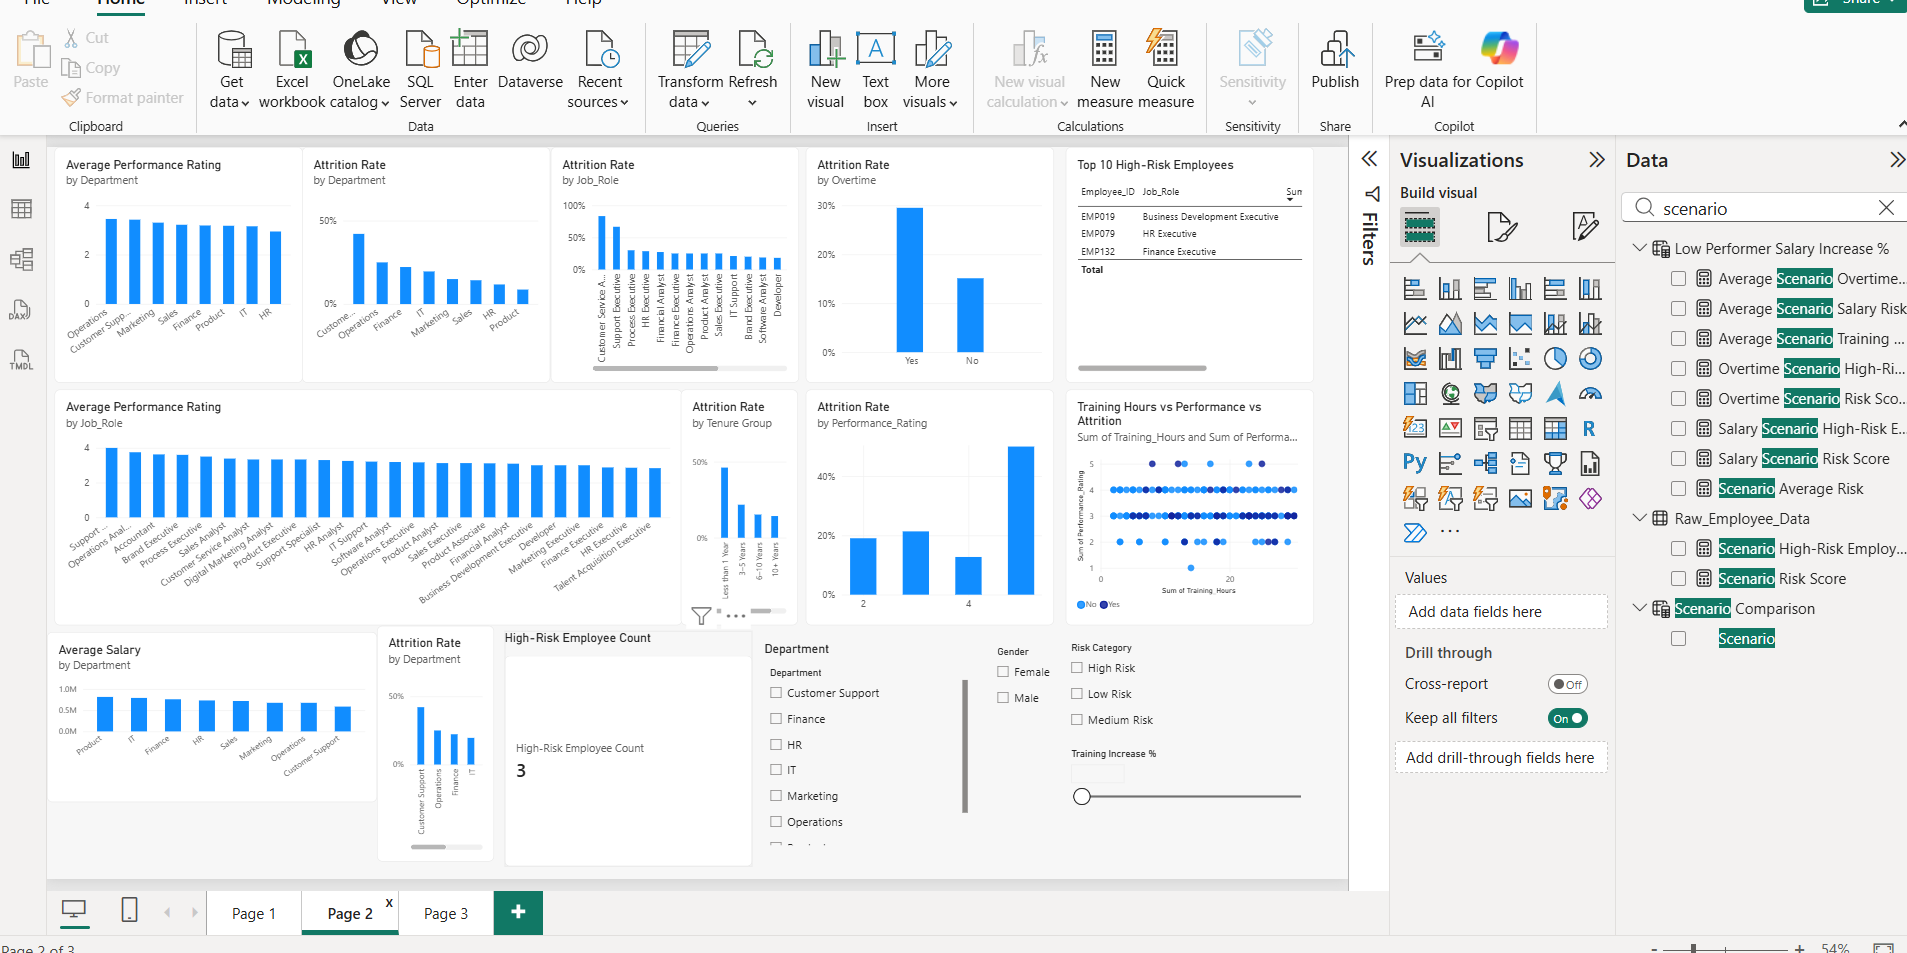

This screenshot's page, from the dashboard's own definition file:
{"tool":"powerbi","page":{"name":"Page 2","canvas":[1920,1080],"ordinal":1},"visuals":[{"type":"clusteredColumnChart","fields":{"Category":["Raw_Employee_Data.Department"],"Y":["Raw_Employee_Data.Average Performance Rating"]},"box":[10.3,0,366.4,347.9],"z":0},{"type":"clusteredColumnChart","fields":{"Category":["Raw_Employee_Data.Job_Role"],"Y":["Raw_Employee_Data.Average Performance Rating"]},"box":[10.3,358.1,926.2,347.9],"z":1},{"type":"clusteredColumnChart","fields":{"Category":["Raw_Employee_Data.Department"],"Y":["Raw_Employee_Data.Average Salary"]},"box":[0,715.8,487,250.9],"z":2},{"type":"clusteredColumnChart","fields":{"Category":["Raw_Employee_Data.Department"],"Y":["Raw_Employee_Data.Attrition Rate"]},"box":[376.7,0,366,348],"z":3},{"type":"clusteredColumnChart","fields":{"Category":["Raw_Employee_Data.Job_Role"],"Y":["Raw_Employee_Data.Attrition Rate"]},"box":[742.7,0,366,348],"z":4},{"type":"clusteredColumnChart","fields":{"Category":["Raw_Employee_Data.Tenure Group"],"Y":["Raw_Employee_Data.Attrition Rate"]},"box":[936,358,173,348],"z":5},{"type":"clusteredColumnChart","fields":{"Category":["Raw_Employee_Data.Department"],"Y":["Raw_Employee_Data.Attrition Rate"]},"box":[487,706.5,173,348],"z":6},{"type":"clusteredColumnChart","fields":{"Category":["Raw_Employee_Data.Overtime"],"Y":["Raw_Employee_Data.Attrition Rate"]},"box":[1119,0,366,348],"z":7},{"type":"clusteredColumnChart","fields":{"Category":["Raw_Employee_Data.Performance_Rating"],"Y":["Raw_Employee_Data.Attrition Rate"]},"box":[1119,358,366,348],"z":8},{"type":"cardVisual","title":"High-Risk Employee Count","fields":{"Data":["Raw_Employee_Data.High-Risk Employee Count"]},"box":[675.2,713.9,366,348],"z":9},{"type":"tableEx","title":"Top 10 High-Risk Employees","fields":{"Values":["Raw_Employee_Data.Employee_ID","Raw_Employee_Data.Job_Role","Sum(Raw_Employee_Data.Attrition Risk Score)","Raw_Employee_Data.Risk Category"]},"box":[1503.5,0,366,348],"z":10},{"type":"scatterChart","title":"Training Hours vs Performance vs Attrition","fields":{"Category":["Raw_Employee_Data.Employee_ID"],"Series":["Raw_Employee_Data.Attrition"],"X":["Sum(Raw_Employee_Data.Training_Hours)"],"Y":["Sum(Raw_Employee_Data.Performance_Rating)"]},"box":[1503,358,366,348],"z":11},{"type":"slicer","title":"Department","fields":{"Values":["Raw_Employee_Data.Department"]},"box":[1058.9,730.5,300,300],"z":12},{"type":"slicer","fields":{"Values":["Raw_Employee_Data.Gender"]},"box":[1394.6,736.1,108.8,151.3],"z":13},{"type":"slicer","fields":{"Values":["Raw_Employee_Data.Risk Category"]},"box":[1503.5,730.5,366,150],"z":14},{"type":"slicer","fields":{"Values":["Training Increase %.Training Increase %"]},"box":[1503,887,366,150],"z":15}]}

Visuals, with their boxes on the page's 1920x1080 design canvas (x1, y1, x2, y2). These are canvas units, not pixel positions in the 1907x953 screenshot, which may show the page scaled, cropped or inside an application window:
clusteredColumnChart - Raw_Employee_Data.Department x Raw_Employee_Data.Average Performance Rating: <bbox>10, 0, 377, 348</bbox>
clusteredColumnChart - Raw_Employee_Data.Job_Role x Raw_Employee_Data.Average Performance Rating: <bbox>10, 358, 936, 706</bbox>
clusteredColumnChart - Raw_Employee_Data.Department x Raw_Employee_Data.Average Salary: <bbox>0, 716, 487, 967</bbox>
clusteredColumnChart - Raw_Employee_Data.Department x Raw_Employee_Data.Attrition Rate: <bbox>377, 0, 743, 348</bbox>
clusteredColumnChart - Raw_Employee_Data.Job_Role x Raw_Employee_Data.Attrition Rate: <bbox>743, 0, 1109, 348</bbox>
clusteredColumnChart - Raw_Employee_Data.Tenure Group x Raw_Employee_Data.Attrition Rate: <bbox>936, 358, 1109, 706</bbox>
clusteredColumnChart - Raw_Employee_Data.Department x Raw_Employee_Data.Attrition Rate: <bbox>487, 706, 660, 1054</bbox>
clusteredColumnChart - Raw_Employee_Data.Overtime x Raw_Employee_Data.Attrition Rate: <bbox>1119, 0, 1485, 348</bbox>
clusteredColumnChart - Raw_Employee_Data.Performance_Rating x Raw_Employee_Data.Attrition Rate: <bbox>1119, 358, 1485, 706</bbox>
"High-Risk Employee Count" cardVisual: <bbox>675, 714, 1041, 1062</bbox>
"Top 10 High-Risk Employees" tableEx: <bbox>1504, 0, 1870, 348</bbox>
"Training Hours vs Performance vs Attrition" scatterChart: <bbox>1503, 358, 1869, 706</bbox>
"Department" slicer: <bbox>1059, 730, 1359, 1030</bbox>
slicer - Raw_Employee_Data.Gender: <bbox>1395, 736, 1503, 887</bbox>
slicer - Raw_Employee_Data.Risk Category: <bbox>1504, 730, 1870, 880</bbox>
slicer - Training Increase %.Training Increase %: <bbox>1503, 887, 1869, 1037</bbox>
